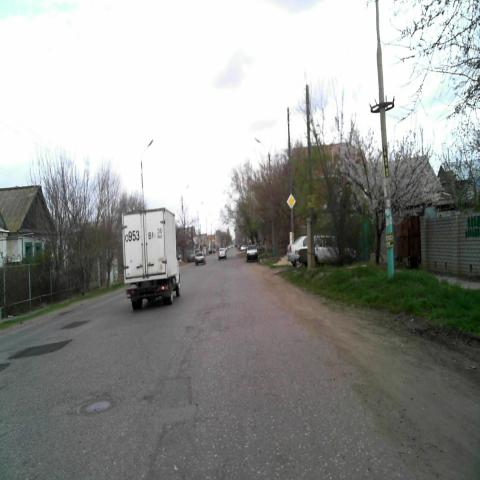2_1: (286, 192, 296, 208)
